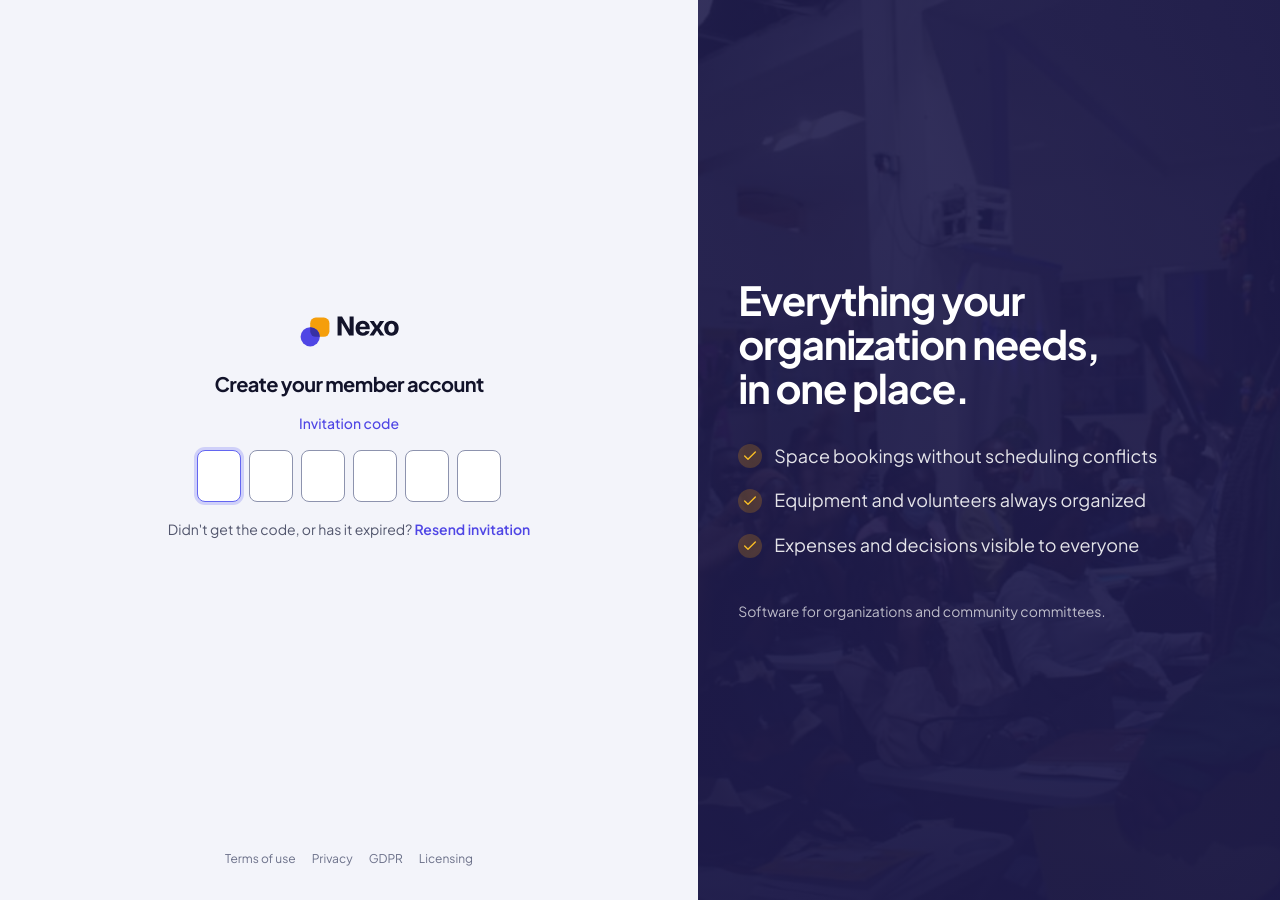
Test: ActivateAccountForm › given the resend button, when clicked, then it asks the API to resend and shows a confirmation
This screenshot has width=1280, height=900.
Click the button "Resend invitation" at x=472, y=530, box [415, 518, 530, 541]
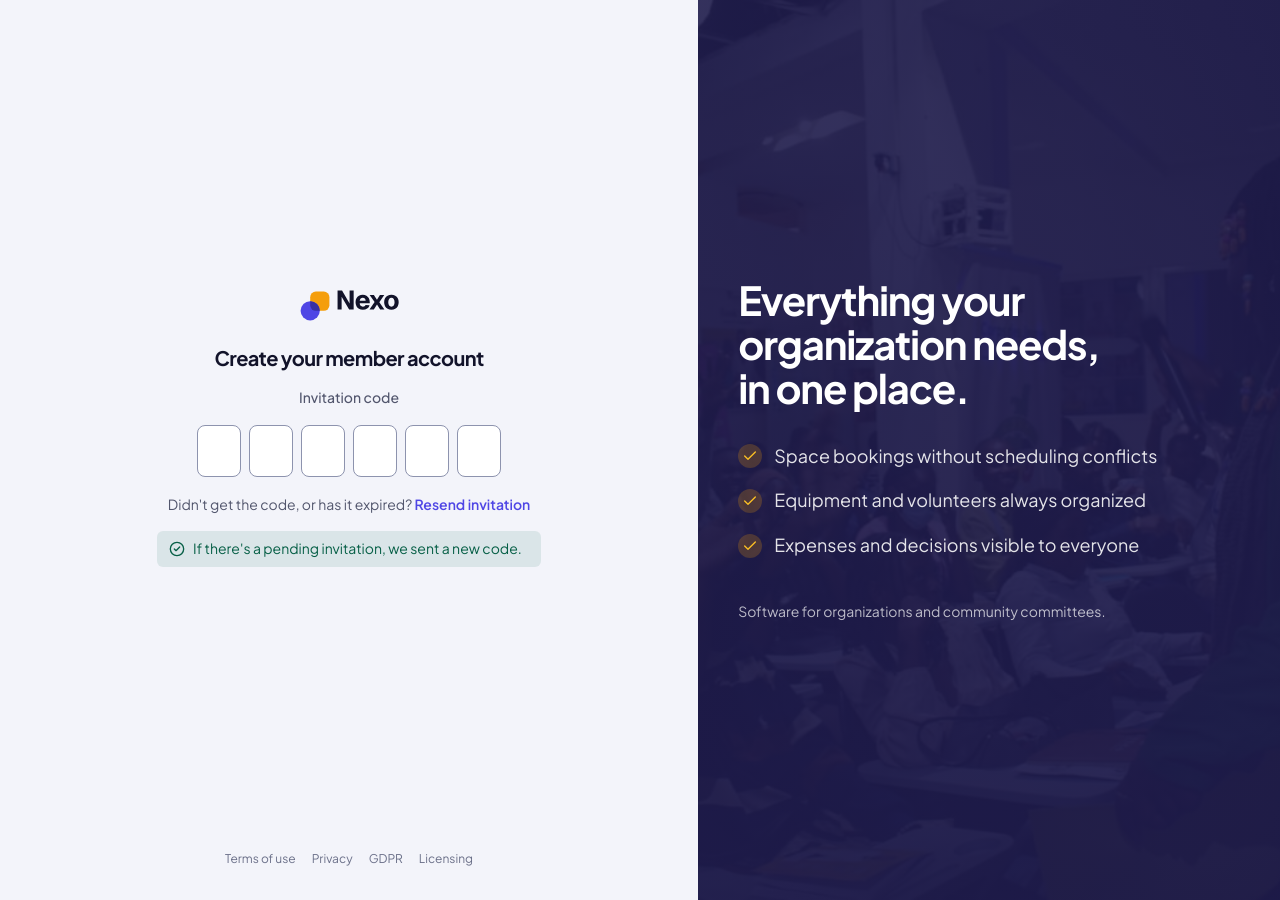
expect the text "If there's a pending invitation, we sent a new code." is shown: met, box [193, 539, 522, 559]
